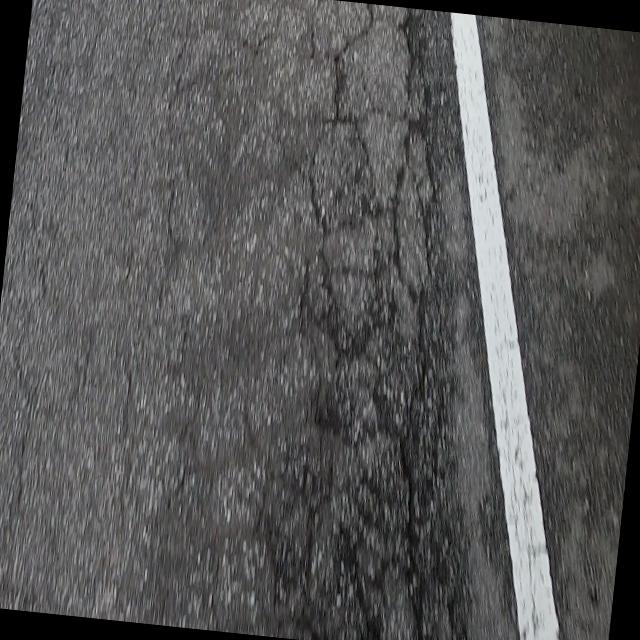Retak-Buaya: (13, 0, 332, 639), (266, 4, 470, 640)
